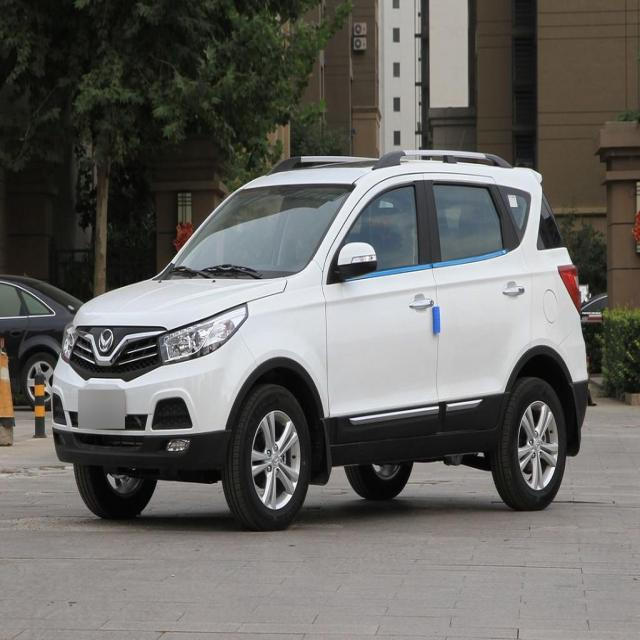back_left_side_light: (558, 260, 583, 316)
door: (420, 173, 540, 422)
front_bumper: (51, 329, 258, 480)
front_glass: (163, 182, 354, 279)
front_left_side_door: (321, 170, 440, 452)
front_left_side_light: (158, 302, 248, 368)
front_left_side_mirror: (335, 239, 379, 281)
front_right_side_light: (59, 320, 79, 361)
wheel: (228, 382, 310, 528), (498, 377, 568, 502), (72, 462, 156, 520), (347, 460, 412, 500)
